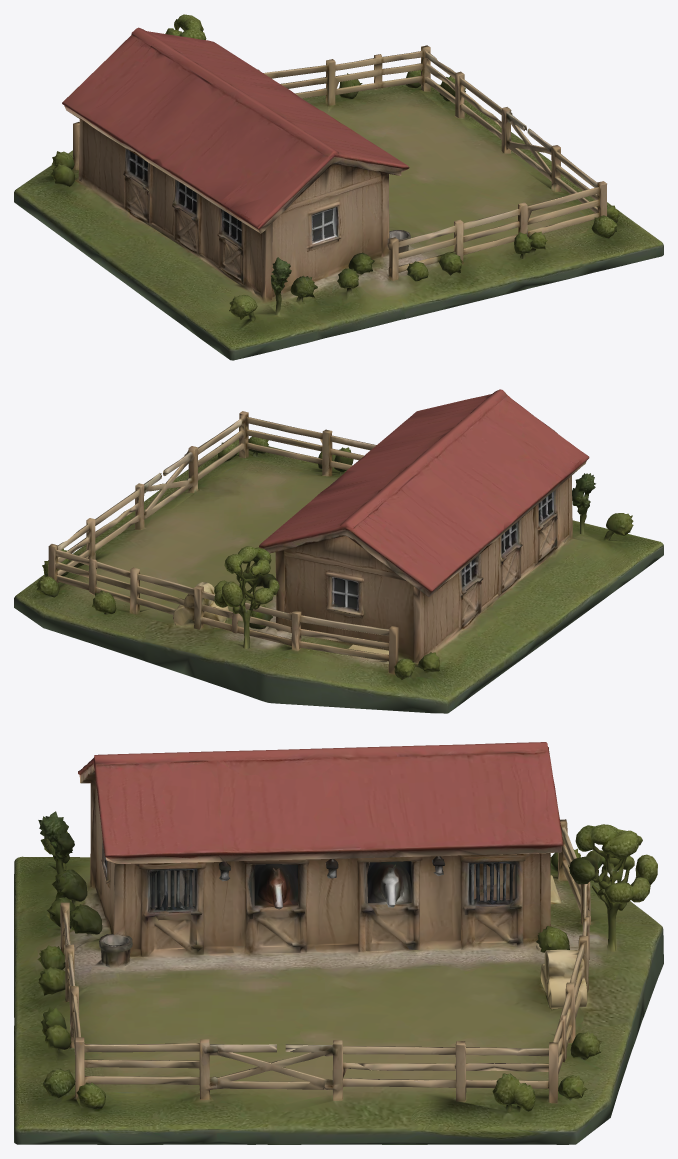
Rendered from home-stable-hf.glb.
3 views of the same model, one above another, from view 1: azimuth 30°, elevation 25°; view 2: azimuth 150°, elevation 25°; view 3: azimuth 270°, elevation 25° (orthographic). The views are drawn at different scales.
Parts seen in each view (by area): view 1: tripo_node_cb026137-b405-4d47-963c-05071f280f8a; view 2: tripo_node_cb026137-b405-4d47-963c-05071f280f8a; view 3: tripo_node_cb026137-b405-4d47-963c-05071f280f8a.
Boxes of the visible parts, x1,y1,x2,y2 form: tripo_node_cb026137-b405-4d47-963c-05071f280f8a: (14,14,663,360); tripo_node_cb026137-b405-4d47-963c-05071f280f8a: (14,389,663,713); tripo_node_cb026137-b405-4d47-963c-05071f280f8a: (14,742,663,1144).
Bounding box in the file's own units: 0.9959 × 0.34 × 0.9999.
Materials: 1 (1 with a texture image).
